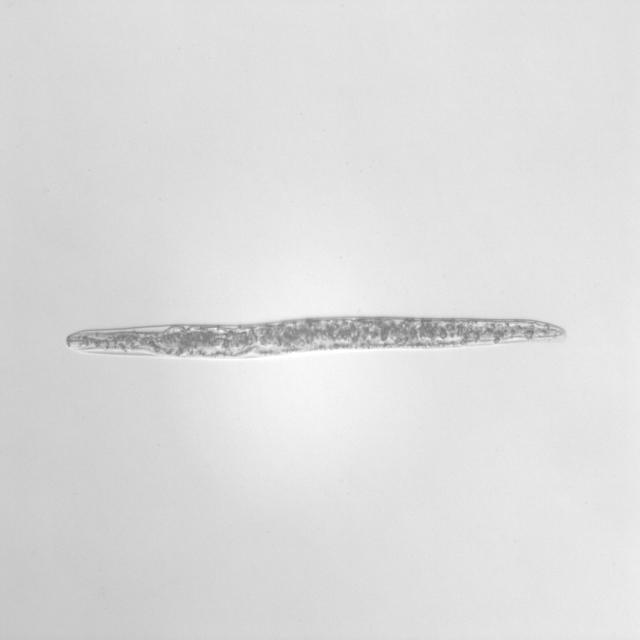Pratylenchus: (63, 300, 576, 370)
